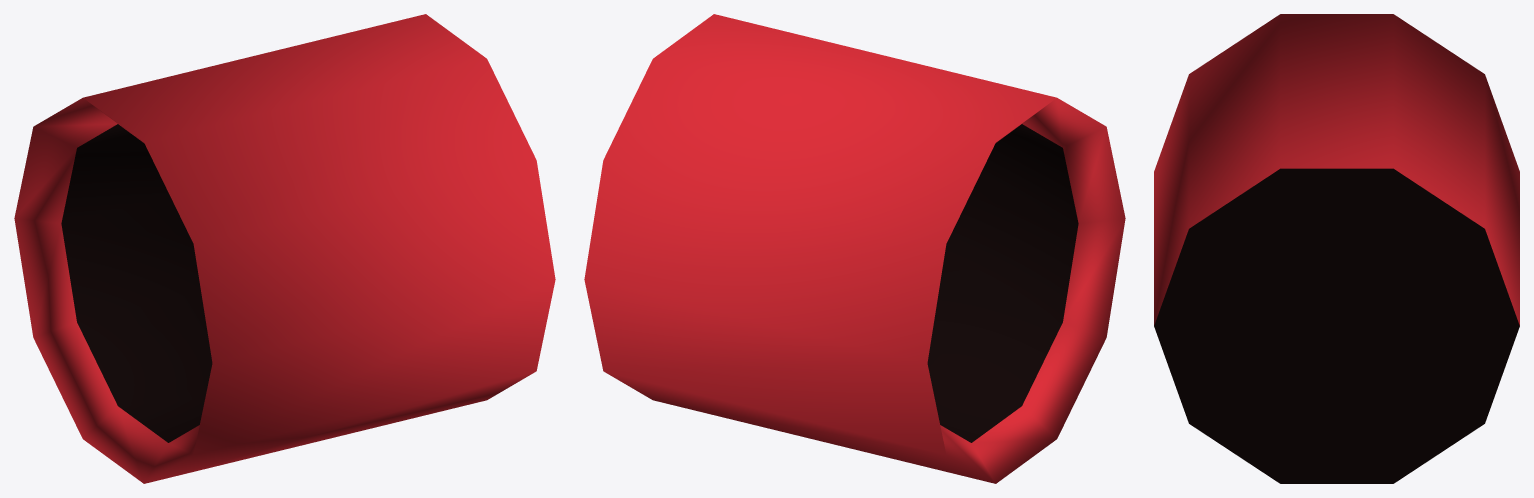
The model's file is CannnonCoder.fbx.
The picture shows the model from 3 angles, left to right: view 1: azimuth 30°, elevation 25°; view 2: azimuth 150°, elevation 25°; view 3: azimuth 270°, elevation 25°; orthographic projection. The views are drawn at different scales.
Parts seen in each view (by area): view 1: Cylinder; view 2: Cylinder; view 3: Cylinder.
Part boxes in pixels (bbox=[...]): Cylinder: bbox=[14, 14, 555, 483]; Cylinder: bbox=[584, 14, 1125, 483]; Cylinder: bbox=[1154, 14, 1519, 483].
Size of the model in its own units: 72.13 by 68.6 by 72.13.
